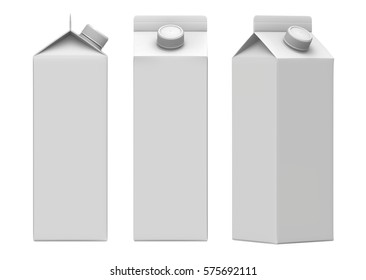carton: (226, 6, 343, 248), (16, 6, 116, 248), (121, 6, 215, 246)
